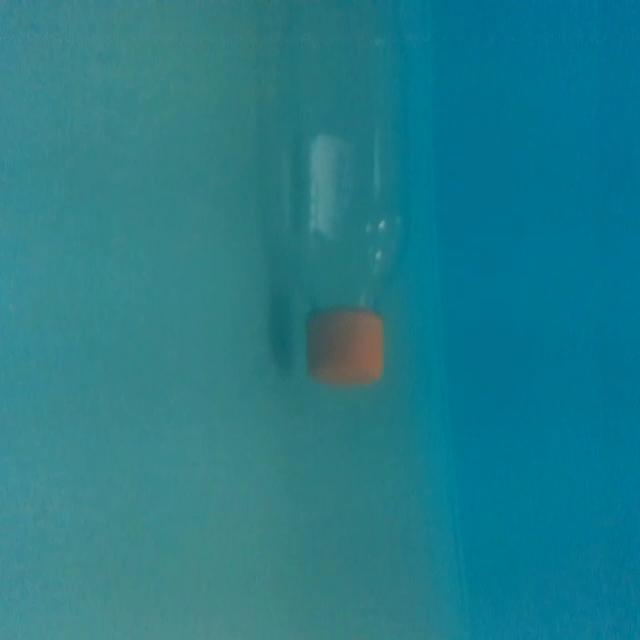plastic bottle: (266, 4, 413, 393)
